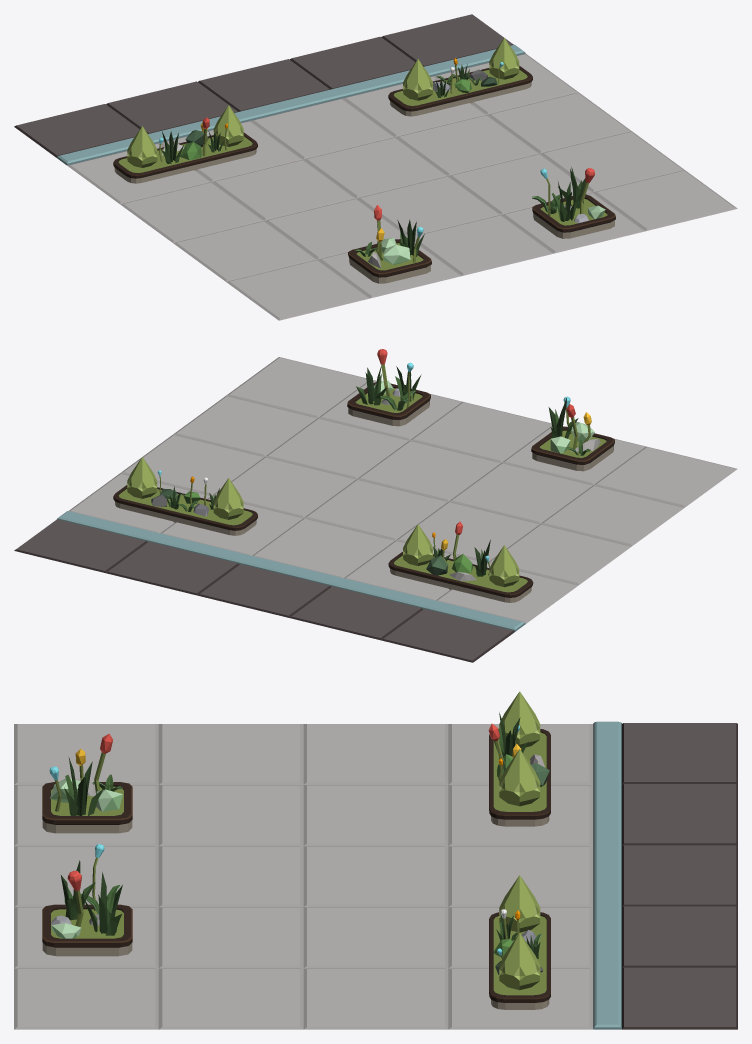
File: OpenRoad_A.glb
3 views of the same model, one above another, from view 1: azimuth 30°, elevation 25°; view 2: azimuth 150°, elevation 25°; view 3: azimuth 270°, elevation 25° (orthographic). The views are drawn at different scales.
Visible parts, largest first — view 1: OpenRoad_A, Cube.257, Cube.256, Cube.251, Cube.252, Cone.126, Cone.129, Cone.128, Cone.127; view 2: OpenRoad_A, Cube.257, Cube.256, Cube.251, Cube.252, Cone.126, Cone.129, Cone.128, Cone.127, Grass_03.590; view 3: OpenRoad_A, Cube.251, Cube.257, Cube.252, Cube.256, Cone.127, Cone.128, Cone.129, Cone.126, Grass_03.590, Grass_03.591, Grass_03.589 (+1 smaller).
Part boxes in pixels (box(x1,y1,x2,y2)): OpenRoad_A: box(14, 14, 737, 320); Cube.257: box(388, 65, 532, 116); Cube.256: box(113, 132, 257, 183); Cube.251: box(532, 194, 615, 238); Cube.252: box(348, 239, 431, 283); Cone.126: box(127, 126, 157, 167); Cone.129: box(403, 59, 432, 100); Cone.128: box(489, 38, 519, 79); Cone.127: box(213, 105, 243, 146); OpenRoad_A: box(14, 357, 737, 662); Cube.257: box(113, 485, 257, 535); Cube.256: box(388, 552, 533, 602); Cube.251: box(347, 382, 430, 426); Cube.252: box(531, 426, 614, 471); Cone.126: box(489, 545, 519, 587); Cone.129: box(213, 478, 243, 519); Cone.128: box(127, 457, 157, 498); Cone.127: box(403, 524, 432, 565); Grass_03.590: box(356, 364, 386, 405); OpenRoad_A: box(14, 721, 737, 1029); Cube.251: box(42, 904, 132, 956); Cube.257: box(489, 912, 550, 1009); Cube.252: box(42, 782, 132, 833); Cube.256: box(489, 729, 550, 826); Cone.127: box(499, 749, 540, 806); Cone.128: box(499, 933, 540, 990); Cone.129: box(499, 875, 540, 932); Cone.126: box(499, 691, 540, 747); Grass_03.590: box(84, 872, 122, 935); Grass_03.591: box(64, 757, 103, 815); Grass_03.589: box(61, 860, 95, 920).
Size of what is drawn, in the model's own units: 16 by 1.99 by 16.
1 material, 1 textured.
